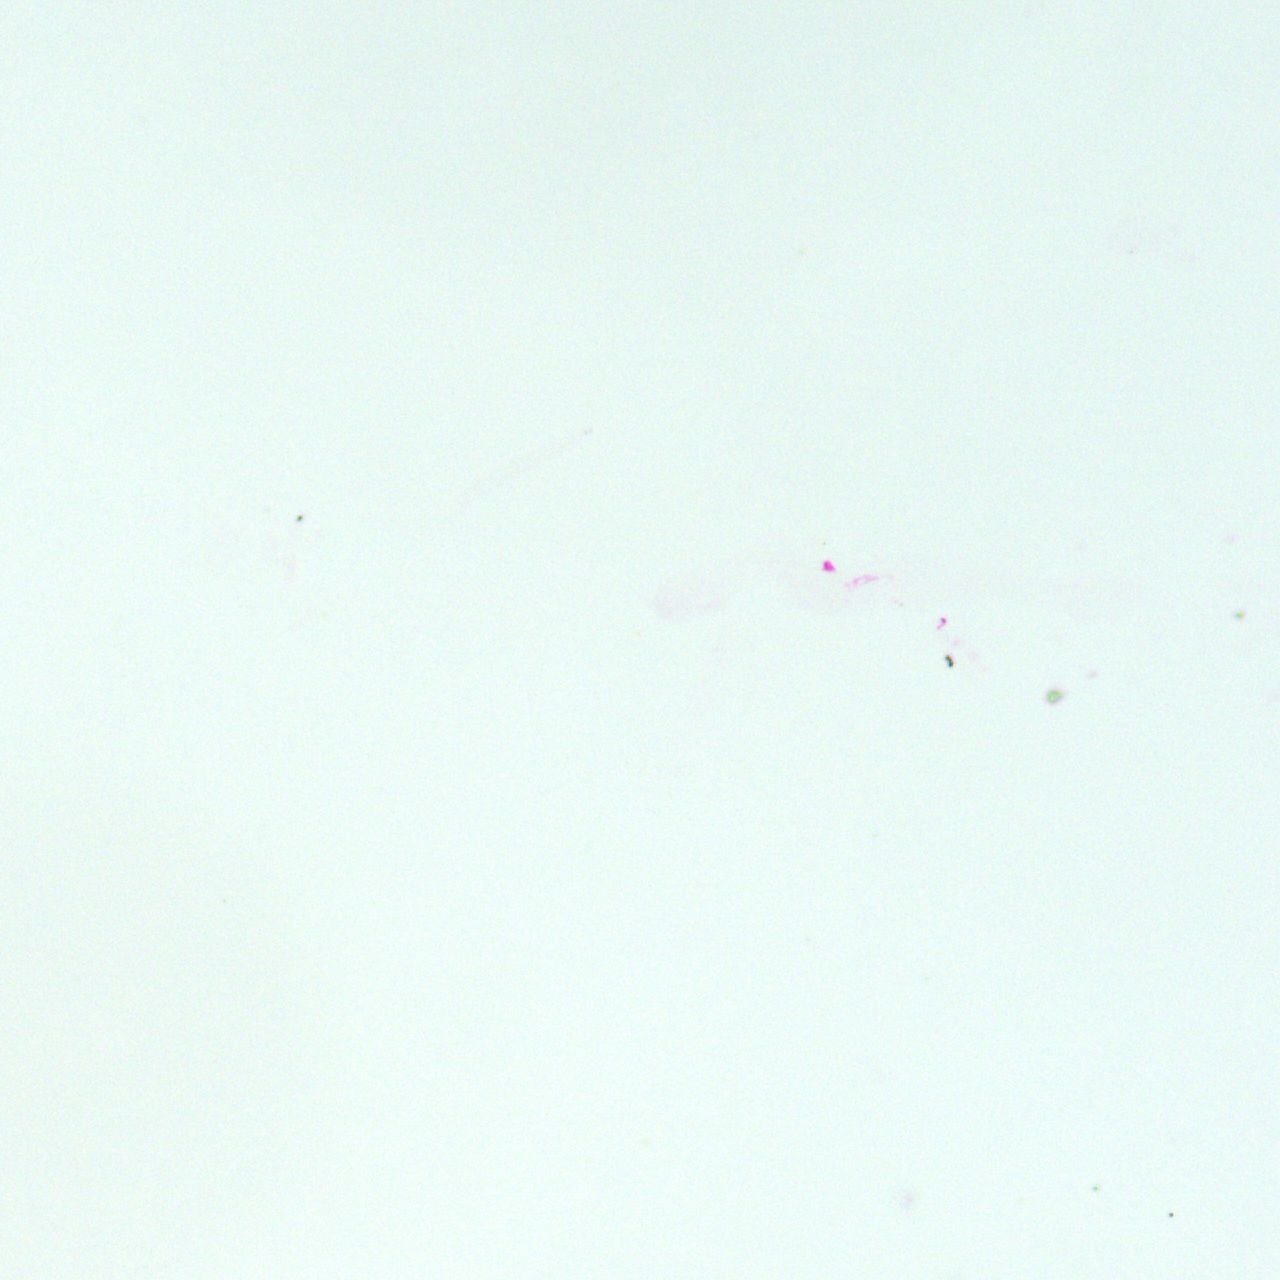dust: (1044, 690, 1065, 704), (942, 654, 956, 670), (297, 515, 302, 522)
